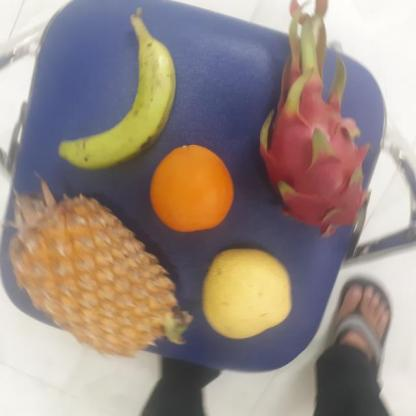banana: (54, 22, 174, 170)
orange: (149, 145, 234, 234)
pineapple: (199, 242, 292, 341)
pitaya: (250, 56, 382, 234)
